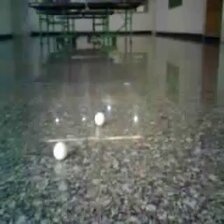w: (52, 141, 68, 160), (93, 111, 105, 126)
